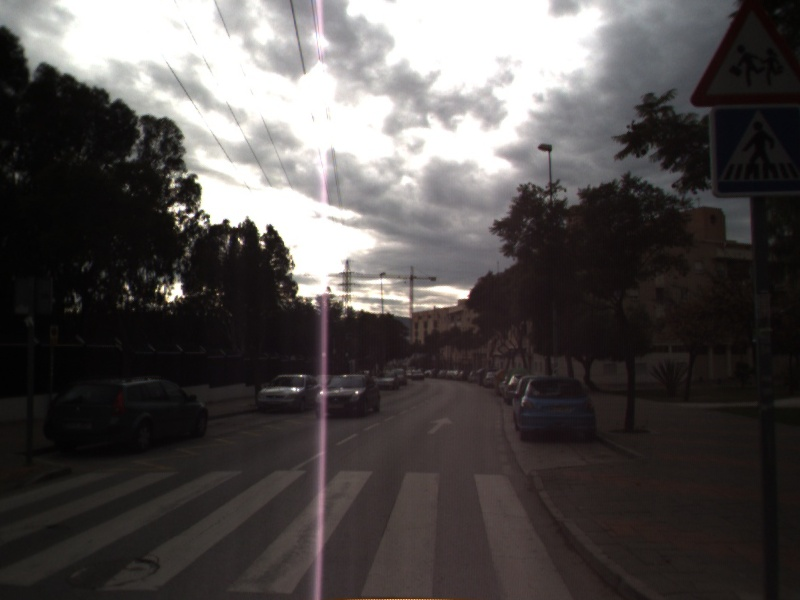STRAIGHT: (424, 415, 456, 436)
